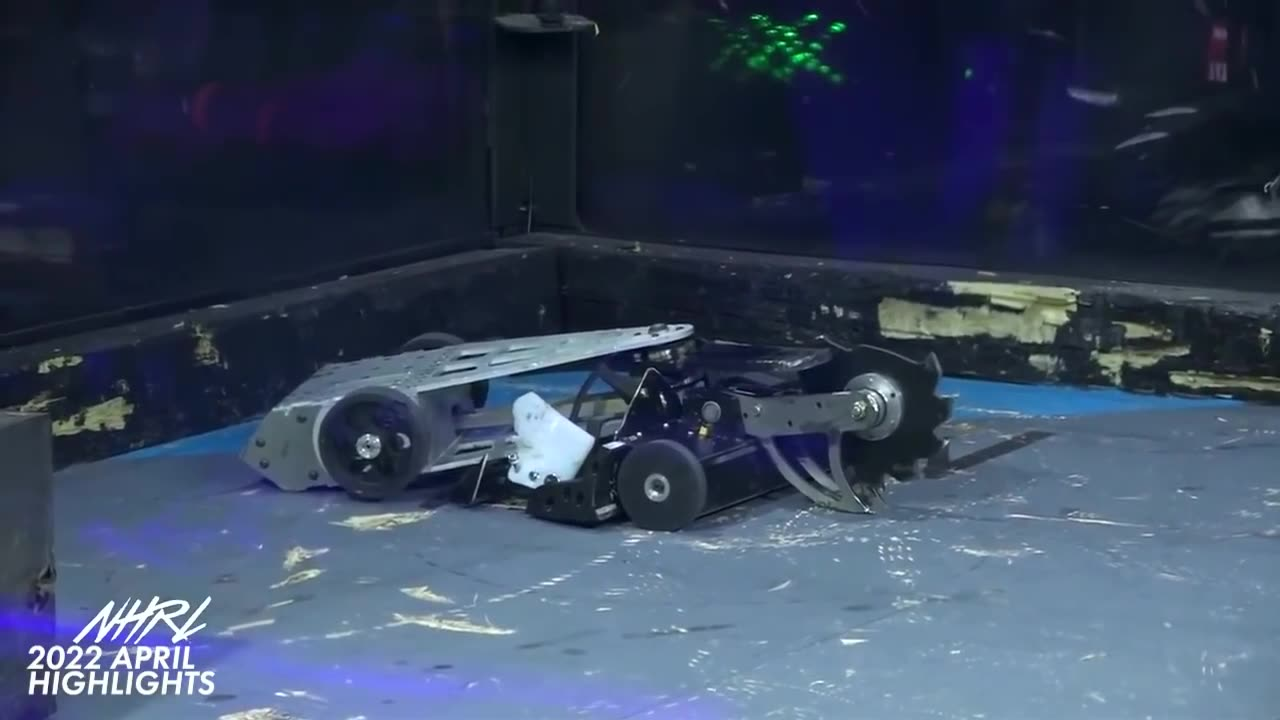combatbot: (526, 333, 945, 527), (244, 324, 693, 502)
housebot: (0, 414, 58, 720)
